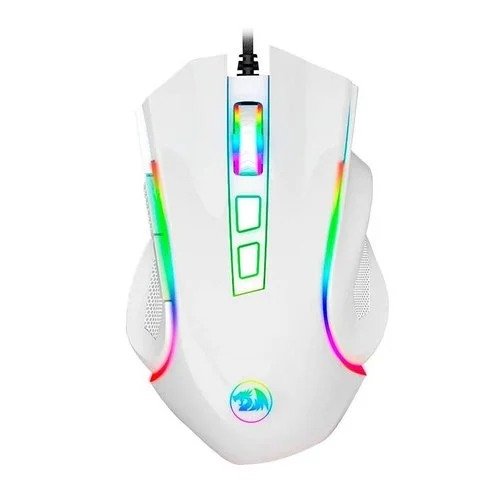mouse: (124, 38, 394, 469)
